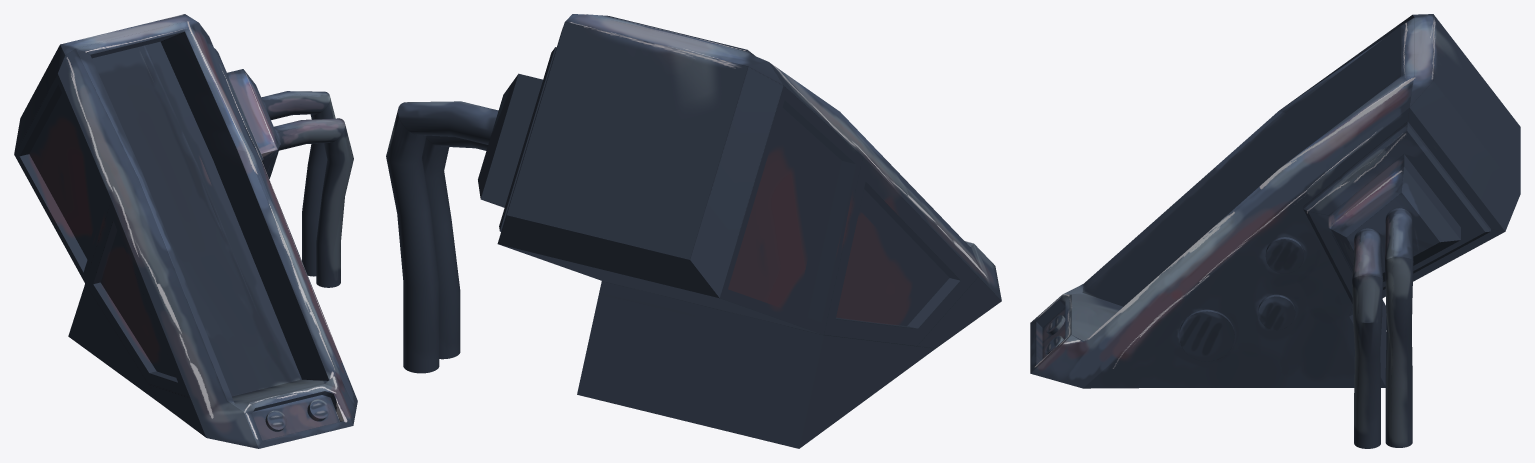
File: creogenic chamber.fbx
3 views of the same model, side by side, from view 1: azimuth 30°, elevation 25°; view 2: azimuth 150°, elevation 25°; view 3: azimuth 270°, elevation 25° (orthographic). The views are drawn at different scales.
Parts seen in each view (by area): view 1: Сreogenic chamber; view 2: Сreogenic chamber; view 3: Сreogenic chamber.
Boxes of the visible parts, x1=… form: Сreogenic chamber: x1=14, y1=14, x2=357, y2=448; Сreogenic chamber: x1=386, y1=14, x2=1001, y2=448; Сreogenic chamber: x1=1030, y1=14, x2=1520, y2=448.
Bounding box in the file's own units: 189 × 180 × 265.
